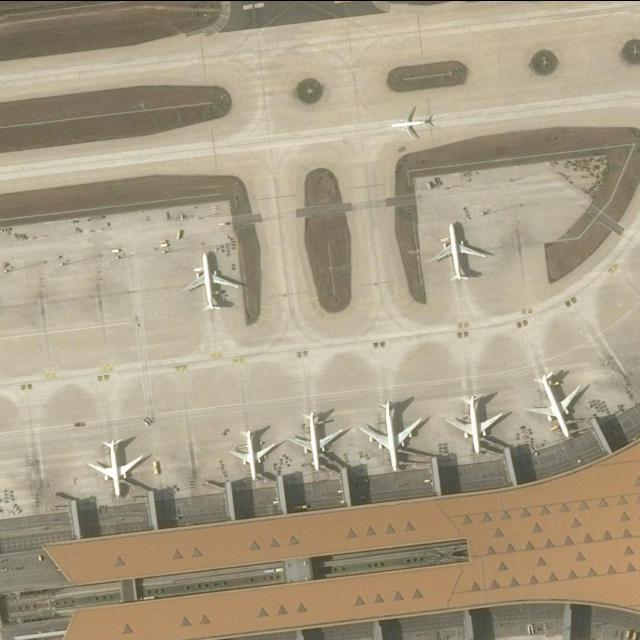Aircraft: (357, 397, 429, 475), (442, 390, 509, 457), (86, 431, 148, 499), (528, 367, 584, 441), (288, 404, 348, 472), (180, 249, 243, 312), (428, 219, 488, 278), (229, 424, 279, 484), (387, 104, 436, 140)
